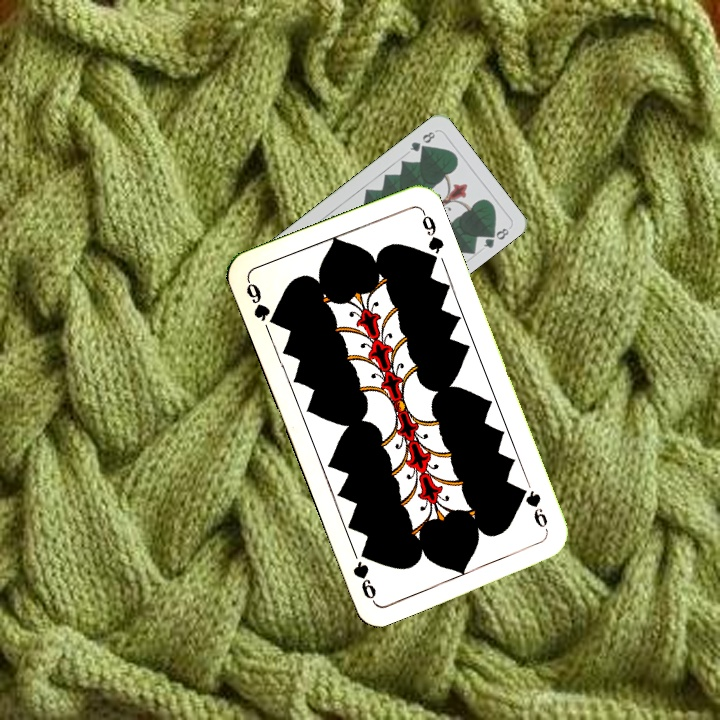G8: (406, 127, 437, 155)
G9: (242, 276, 281, 329), (515, 483, 551, 535)
